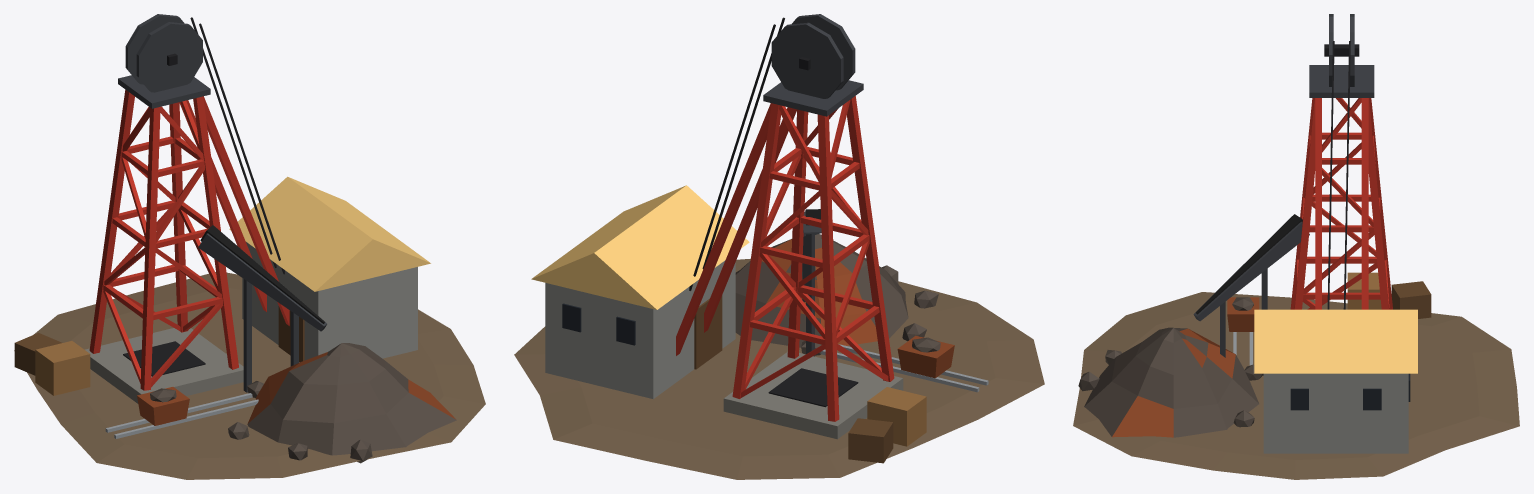
File: mine.glb
3 renders of one model, left to right at view 1: azimuth 30°, elevation 25°; view 2: azimuth 150°, elevation 25°; view 3: azimuth 270°, elevation 25°, orthographic. The views are drawn at different scales.
Parts seen in each view (by area): view 1: mine; view 2: mine; view 3: mine.
Boxes of the visible parts, box(x1,y1,x2,y2) form: mine: box(14, 14, 485, 479); mine: box(514, 14, 1044, 479); mine: box(1073, 14, 1519, 479).
Bounding box in the file's own units: 3.83 × 3.31 × 3.85.
